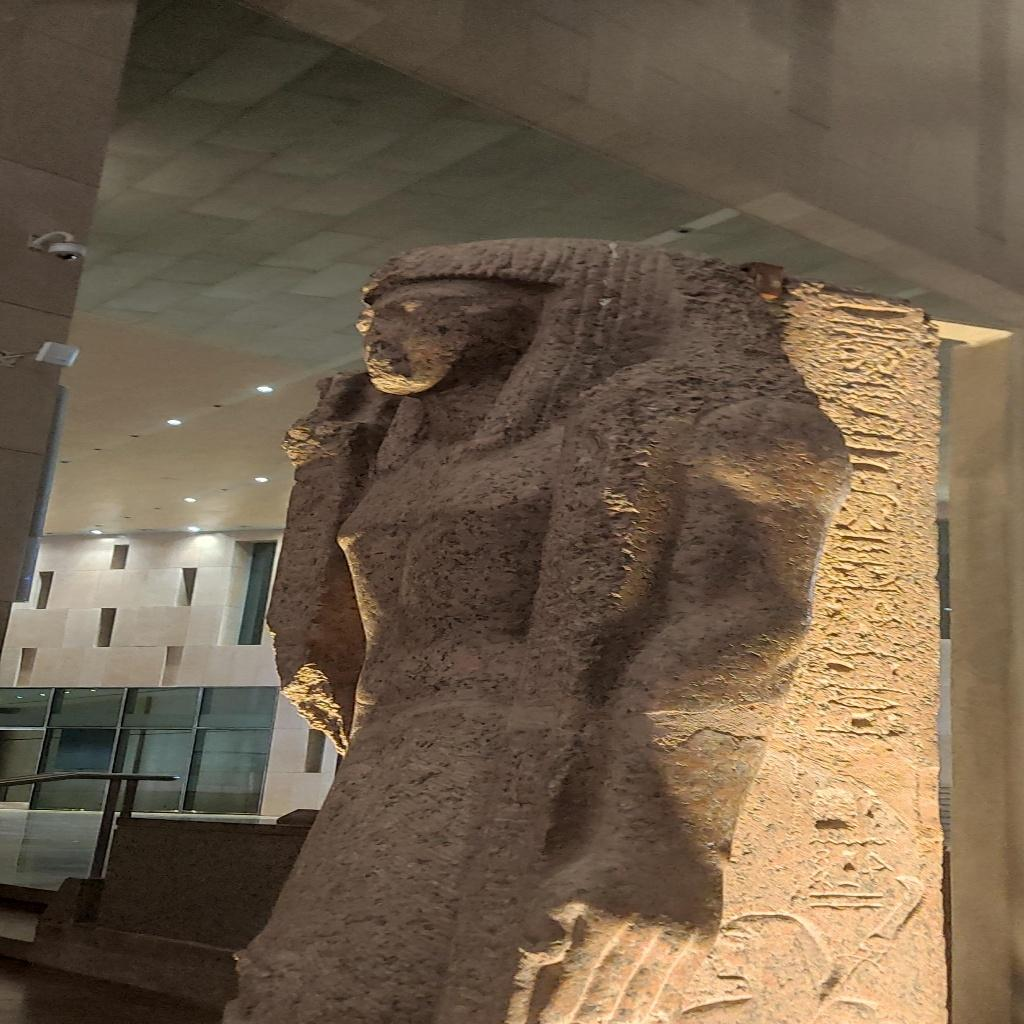Statue of Merenptah as standard Bearer: (253, 233, 948, 1020)
